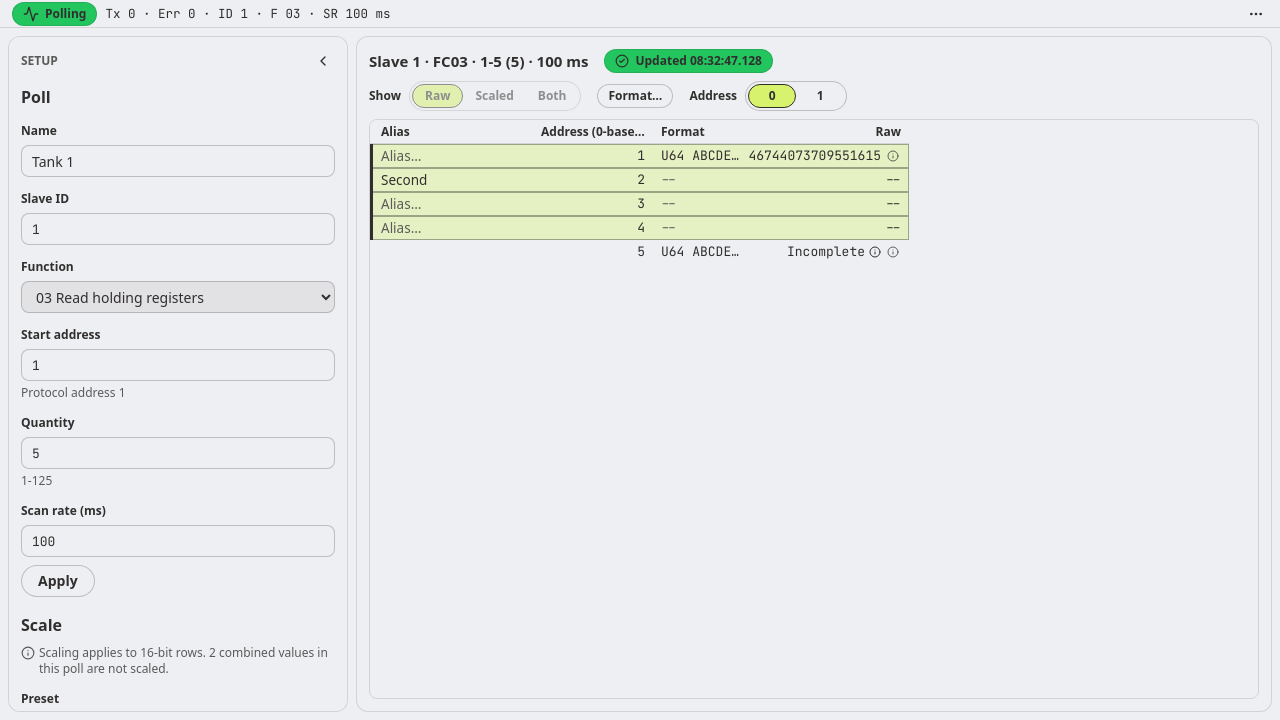
Scenario: mixed grid in native › shows exact u64, the Incomplete remainder, and copies interpreted values and every raw word
Expected: the text "18446744073709551615" is shown, [749,144,881,168]
Expected: the text "Incomplete" is shown, [787,240,865,264]
Click the button named "Inspect raw registers 1–4" at {"x": 893, "y": 156}, box [885,148,901,164]
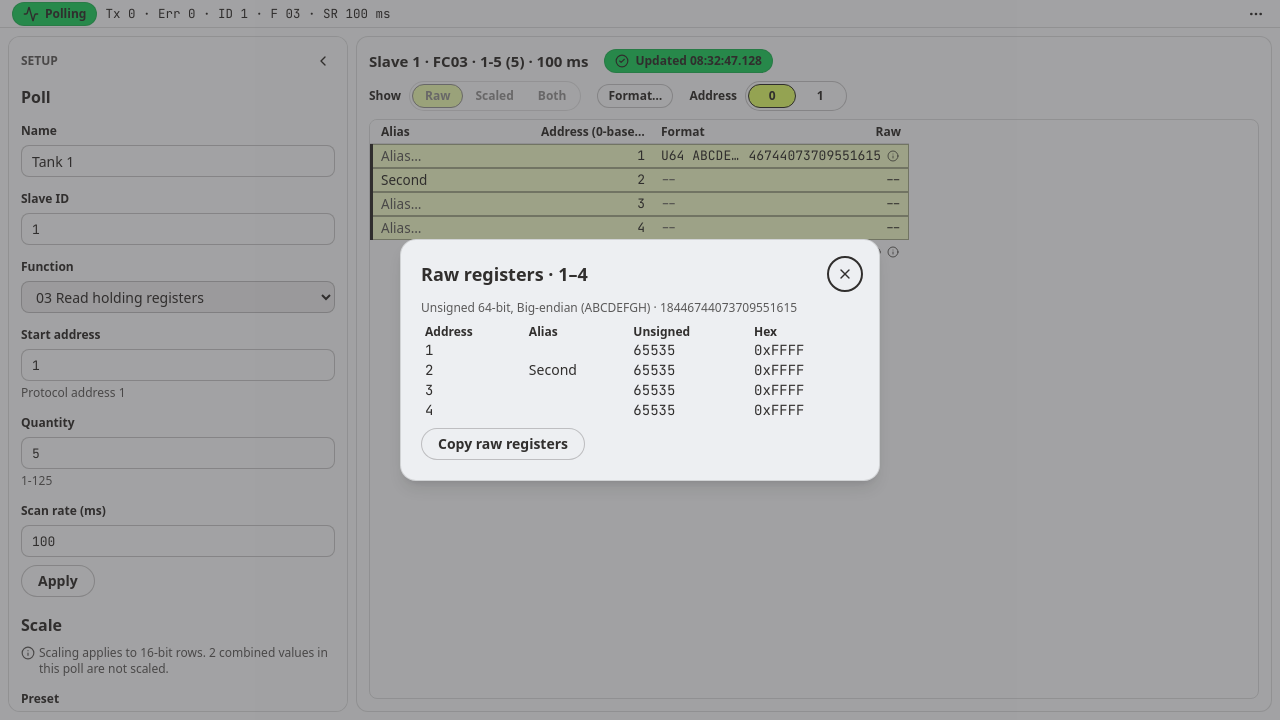
Now the text "Second" is shown, box [525,360,629,380]
Now the text "65535" is shown 4 times, box [629,340,750,360]; [629,360,750,380]; [629,380,750,400]; [629,400,750,420]
Click the button "Copy raw registers" at {"x": 503, "y": 444}, box [421,428,585,460]
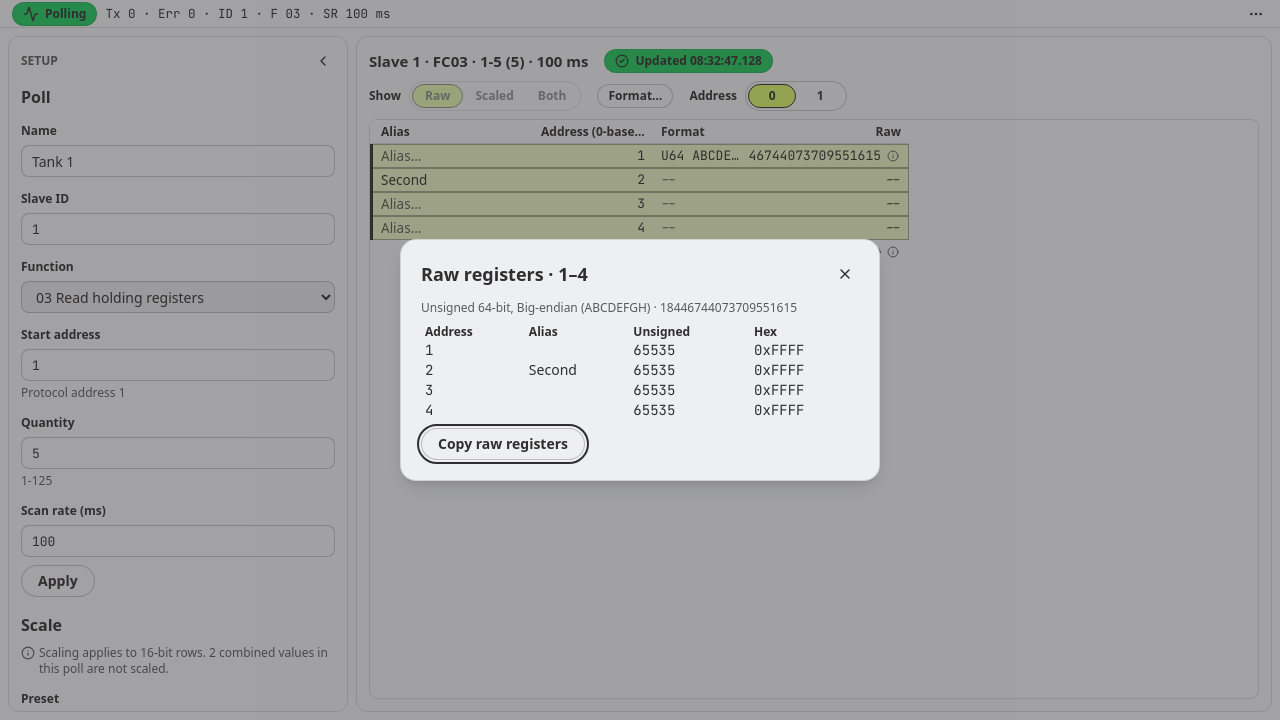
Press Escape in the dialog "Raw registers · 1–4", box [400,239,880,481]
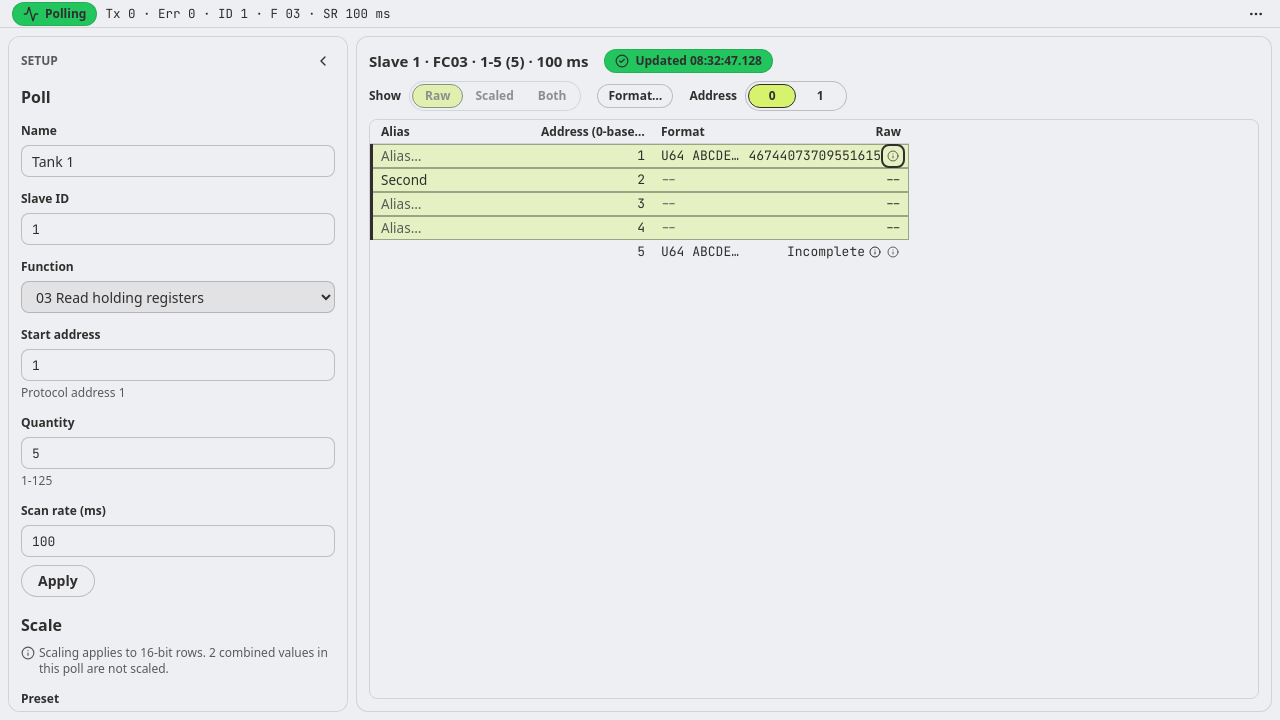
Now the dialog is gone
Click the button named "Inspect raw registers 5" at {"x": 893, "y": 252}, box [885,244,901,260]
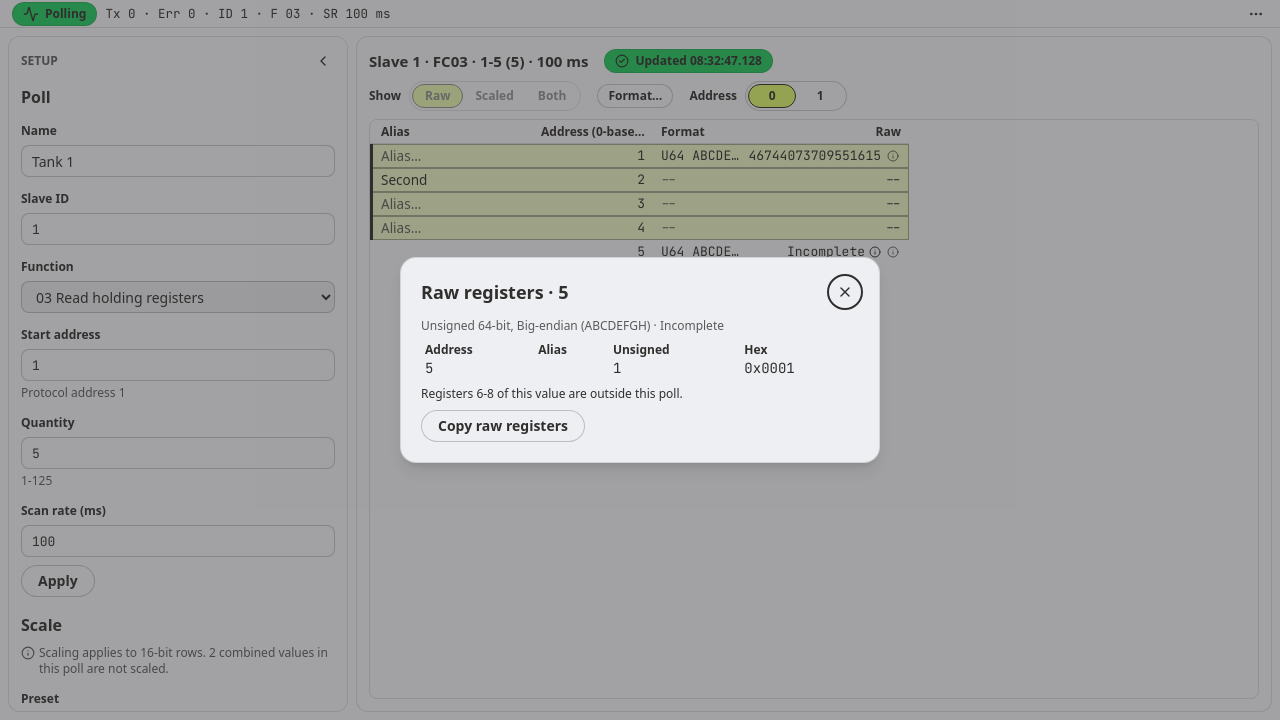
Now the text "Registers 6-8 of this value are outside this poll." is shown, box [421,385,683,402]
